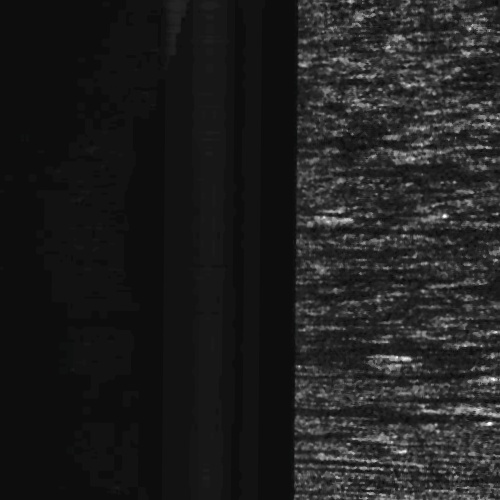shadow: (314, 222, 500, 231)
